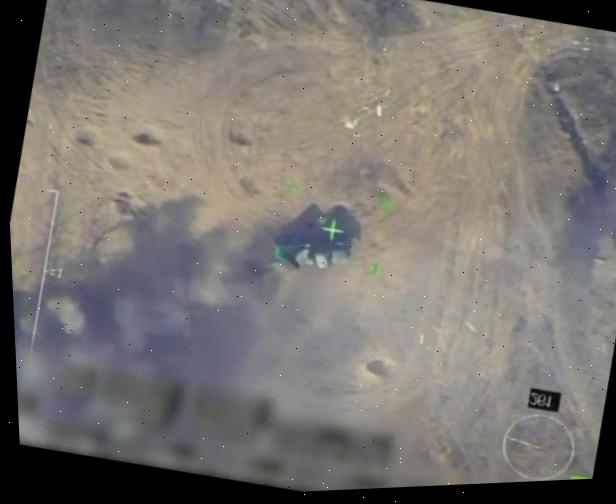rszo: (264, 222, 355, 287)
